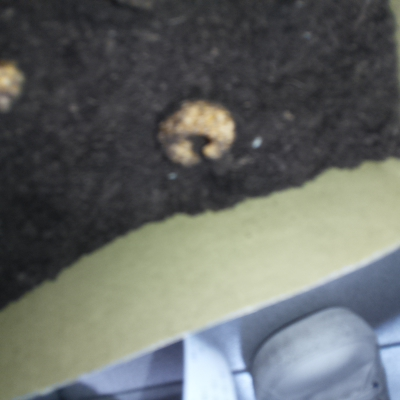eggs: (151, 91, 240, 173), (1, 56, 32, 123)
